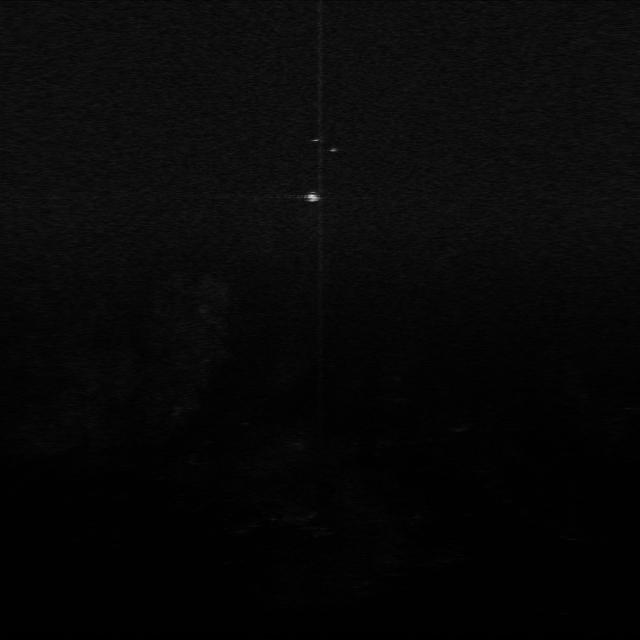rov: (302, 190, 323, 207)
